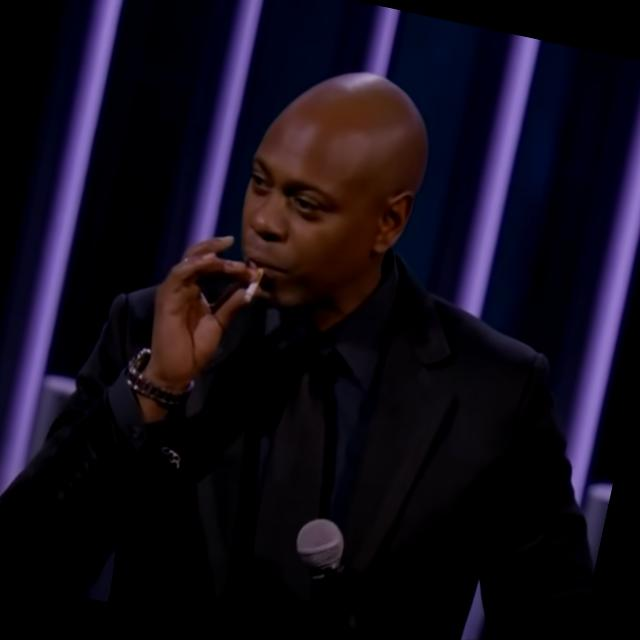smoke: (233, 262, 265, 309)
